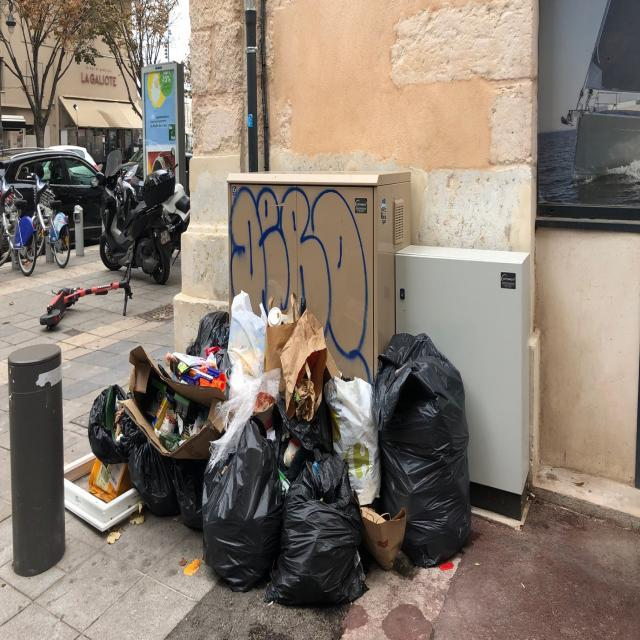garbage: (86, 286, 492, 614)
